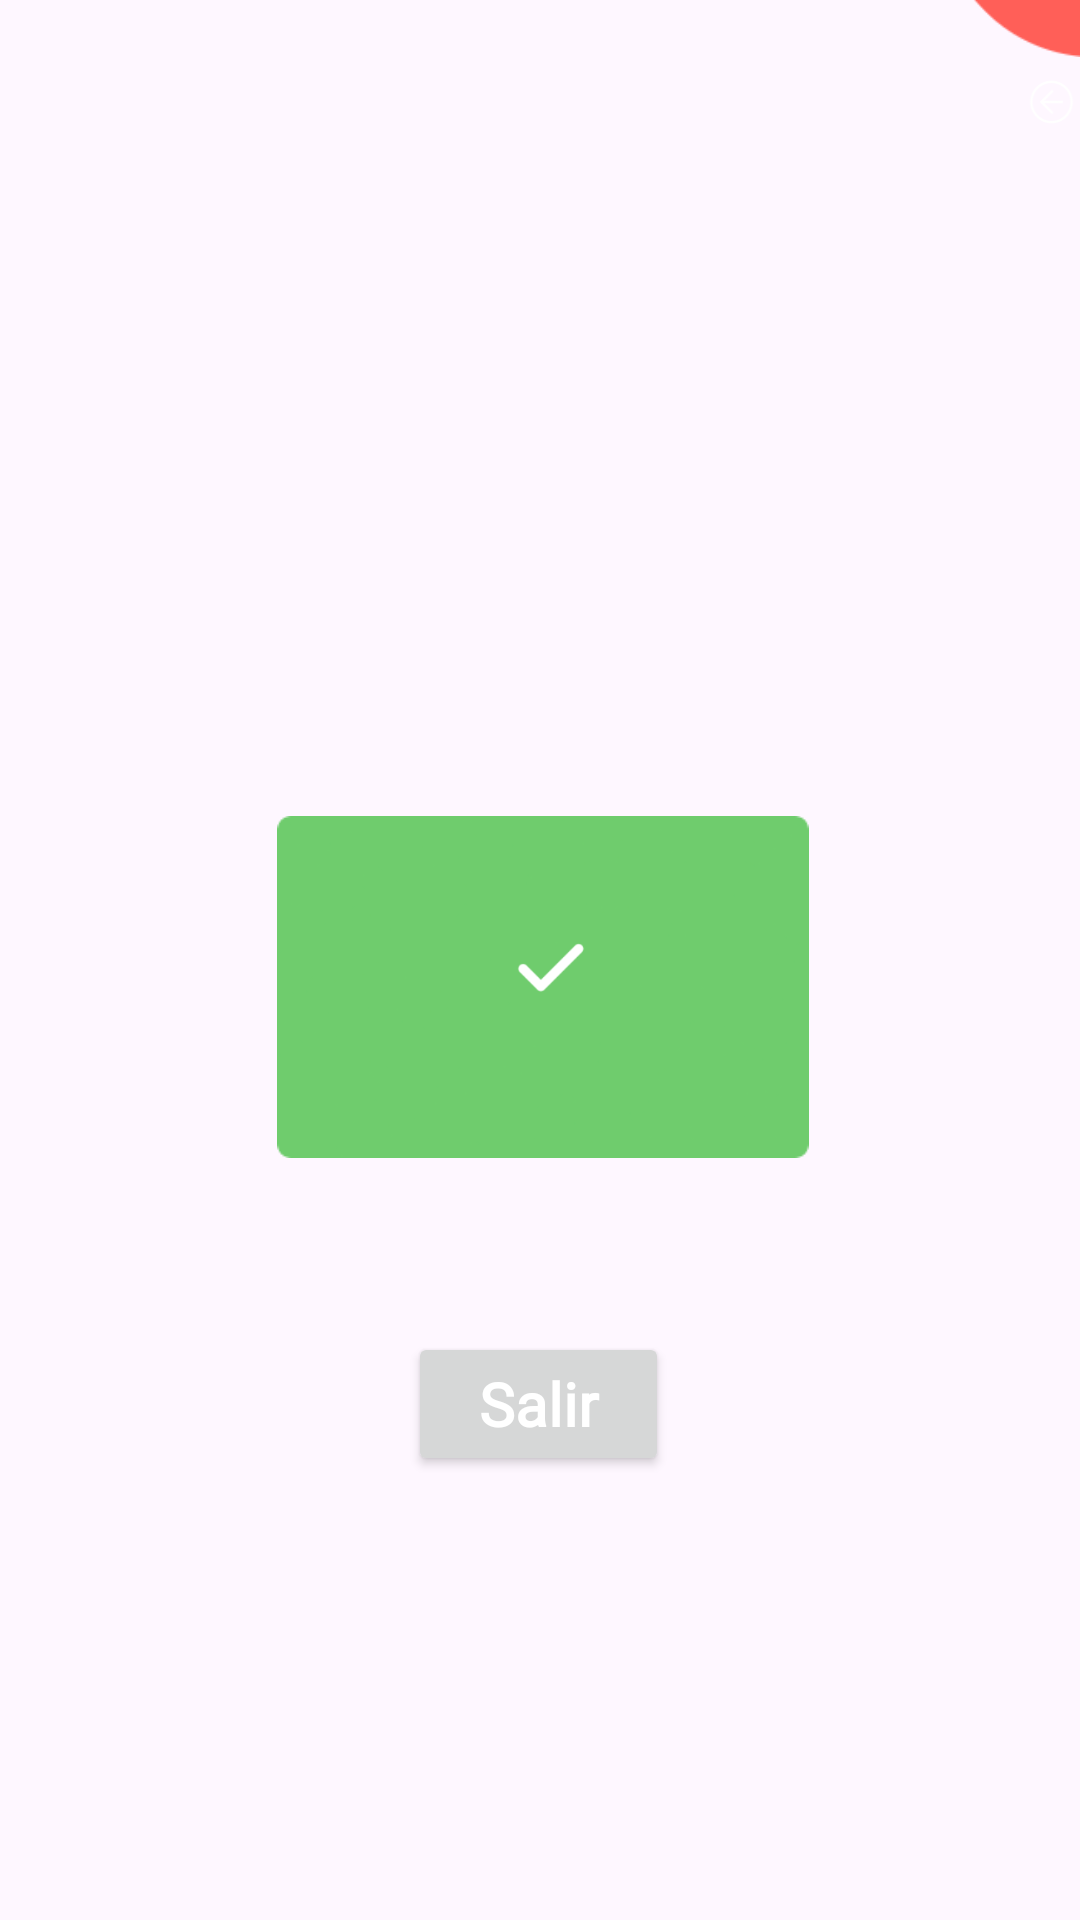

Named icons in this screenshot (1080x1920) and their bounding boxes, (x1, y1, x2, y2):
approve: (518, 944, 584, 992)
